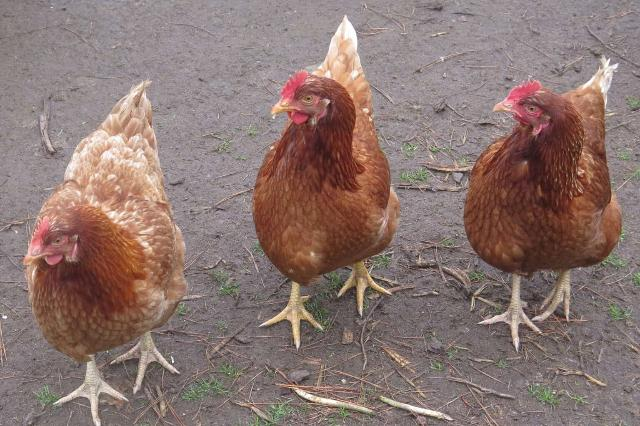Chicken: (20, 76, 189, 426), (255, 15, 399, 350), (463, 54, 621, 352)
